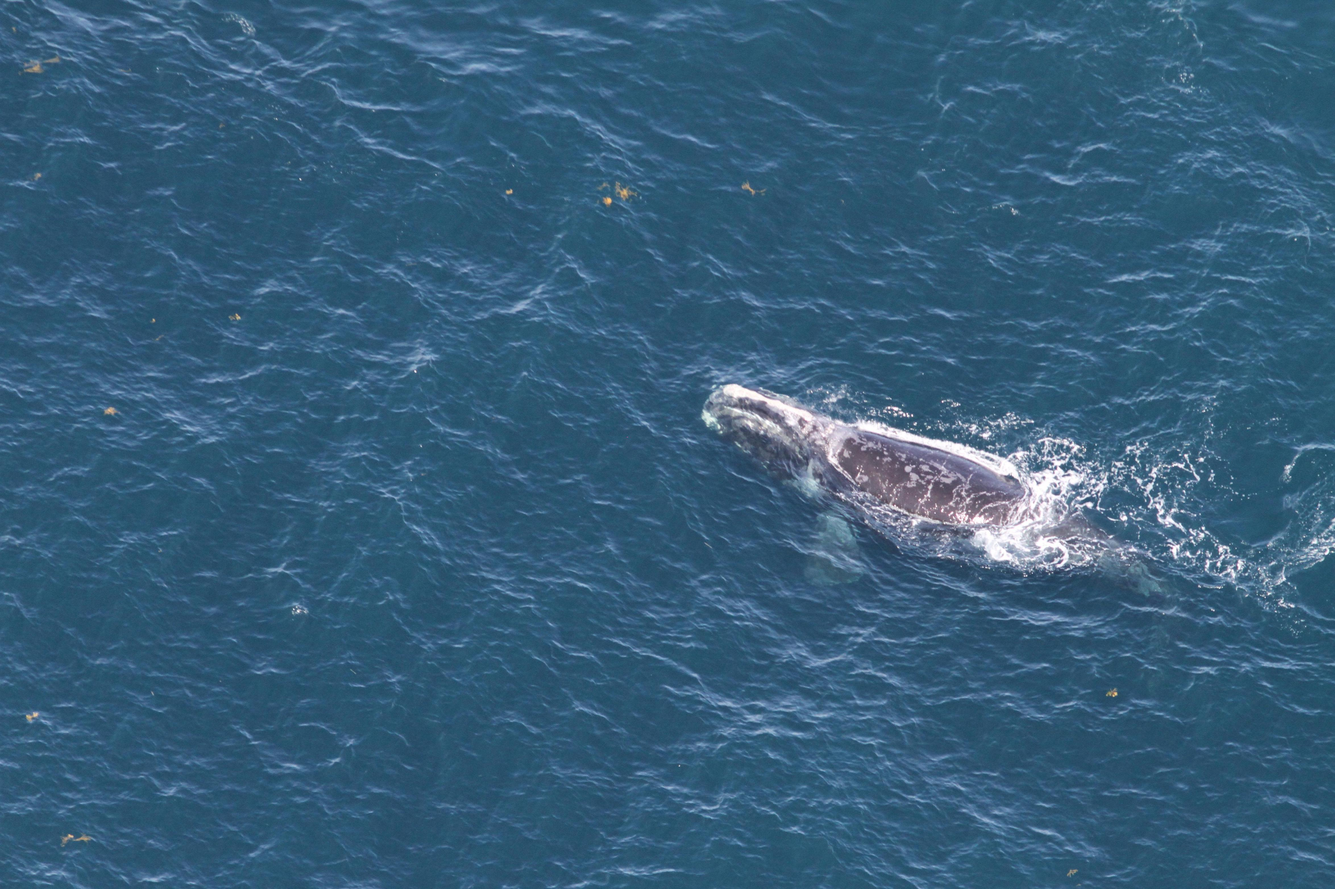whale: (691, 374, 1274, 710)
